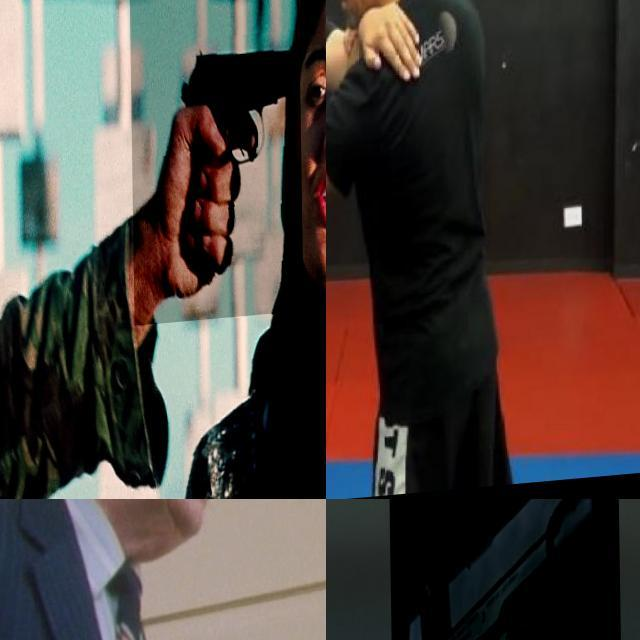-: (326, 261, 366, 366)
gun-knife-thesis - v11 Yolov5 augmented: (129, 0, 302, 328), (388, 499, 623, 640)
